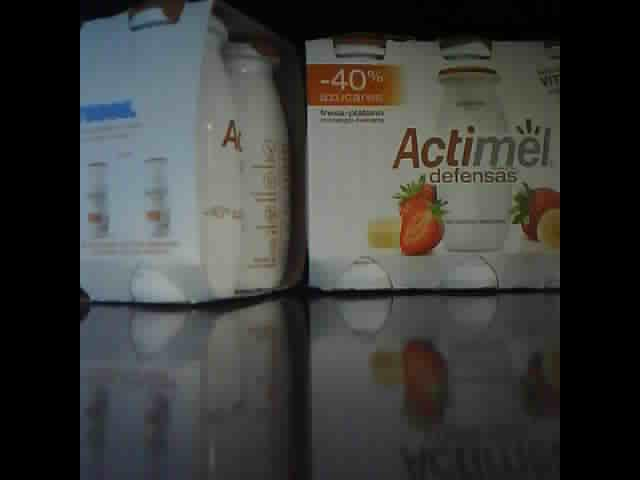actimel: (80, 1, 305, 306), (305, 29, 560, 294)
